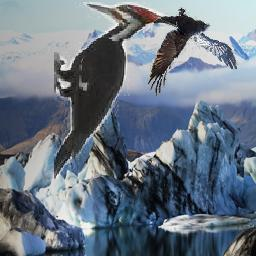Crow: (147, 8, 237, 97)
Woodpecker: (54, 3, 168, 180)
